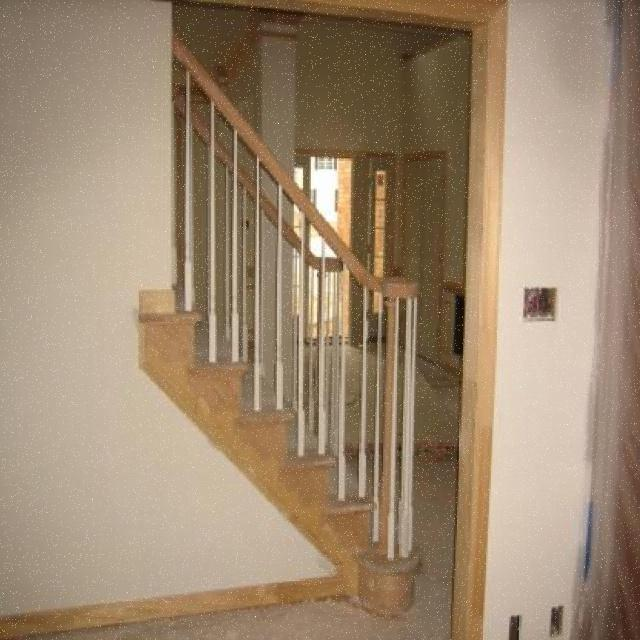stair: (140, 290, 424, 616)
